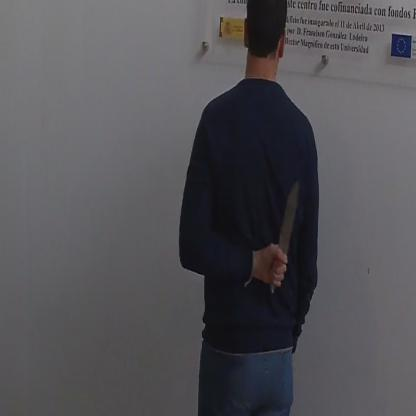knife: (268, 172, 303, 298)
